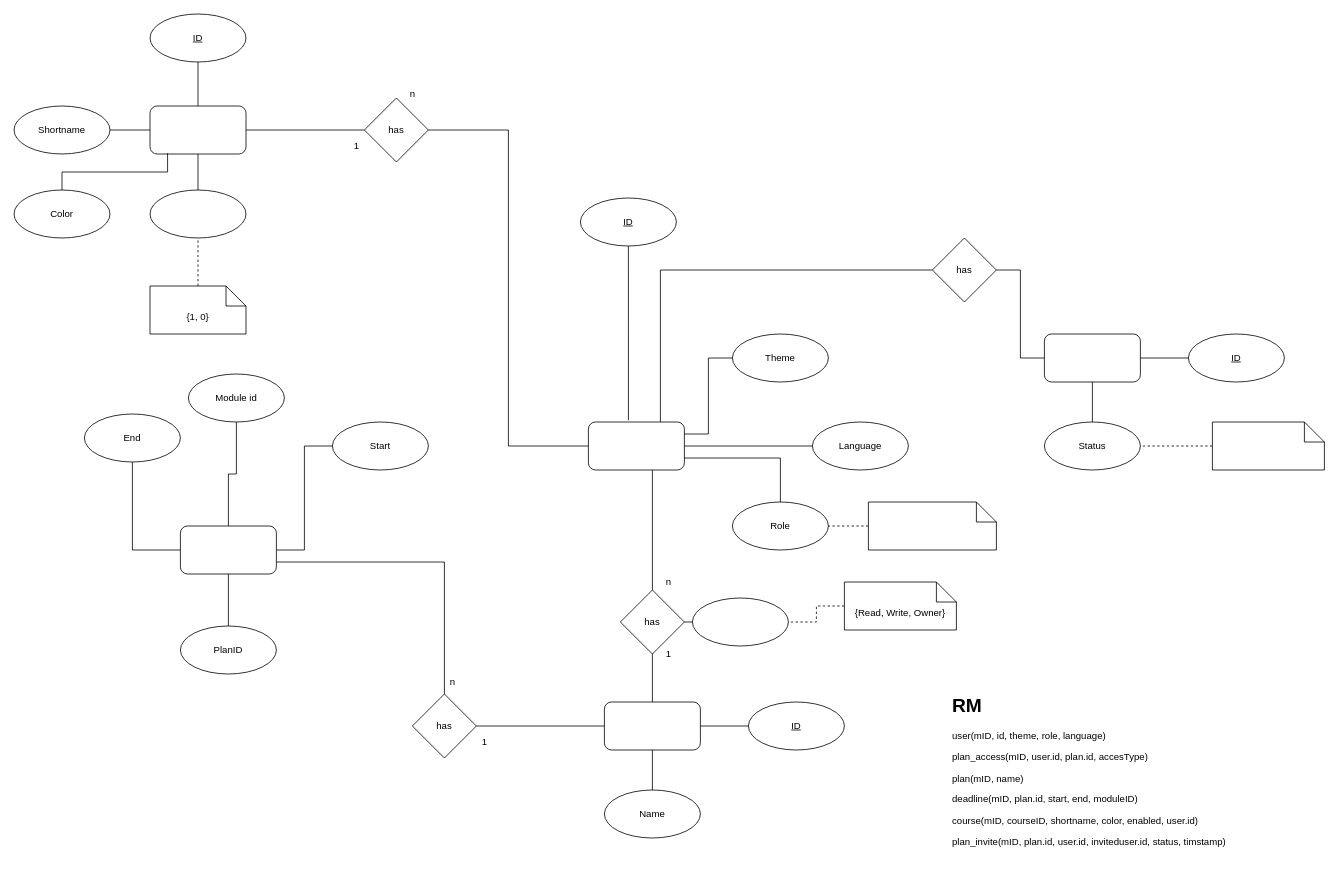
This 1338x892 diagram has some shape labels left out. Here are the shapes that lost their labels. From the top down, the centre of each, then its label:
point 197,129: Course
point 197,213: Enabled
point 1092,357: Notification
point 636,445: User
point 1268,445: {Read, Unread}
point 932,525: {Student, Teacher, Admin}
point 228,549: Deadline
point 740,621: Permissions
point 652,725: Plan
